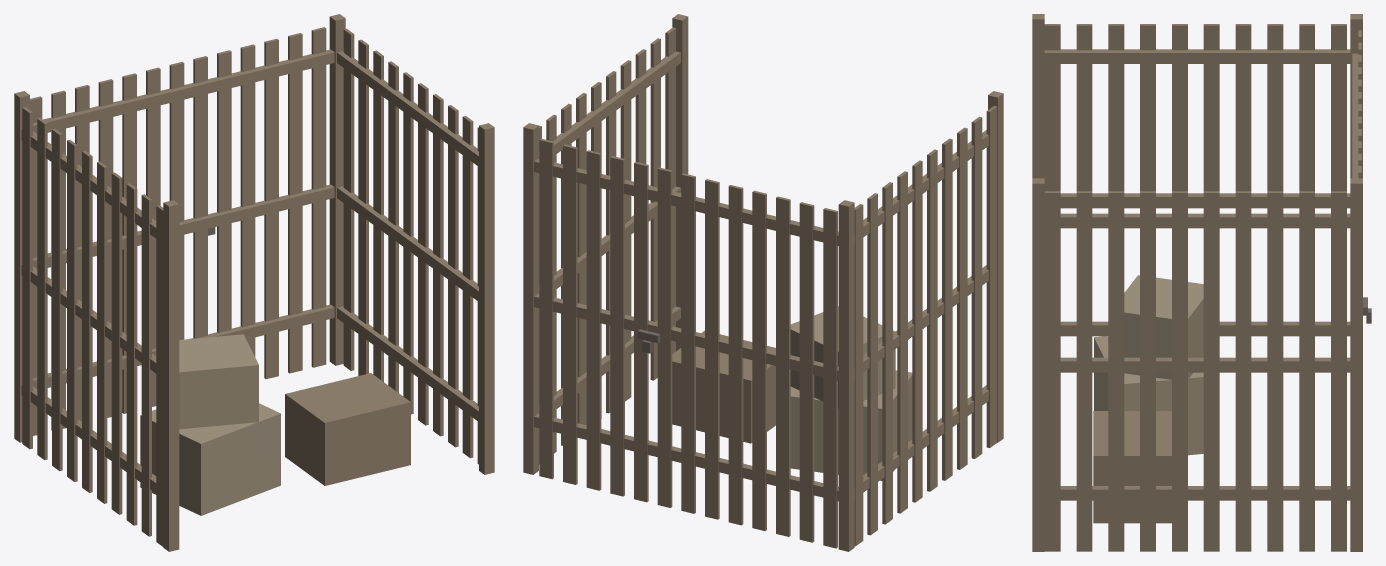
The model's file is basement_storage_cage.glb.
The picture shows the model from 3 angles, left to right: view 1: azimuth 30°, elevation 25°; view 2: azimuth 150°, elevation 25°; view 3: azimuth 270°, elevation 25°; orthographic projection. The views are drawn at different scales.
Parts seen in each view (by area): view 1: StoredCrate3, StoredBox1, StoredBox2, Post_-1.1_-0.9, Post_1.1_-0.9, FrontSlat_12, Post_1.1_0.9, FrontSlat_10, FrontSlat_11, FrontRail_2.05, FrontSlat_9, SideSlatL_3 (+37 smaller); view 2: Post_-1.1_0.9, Post_1.1_0.9, FrontSlat_1, FrontSlat_10, FrontSlat_4, FrontSlat_7, FrontSlat_6, FrontSlat_11, FrontSlat_12, FrontSlat_0, FrontSlat_2, FrontSlat_9 (+36 smaller); view 3: SideSlatR_0, SideSlatR_1, SideSlatR_2, SideSlatR_5, SideSlatR_6, SideSlatR_7, SideSlatR_3, SideSlatR_4, SideSlatR_8, SideSlatR_9, Post_1.1_0.9, Post_1.1_-0.9 (+22 smaller).
Boxes of the visible parts, x1,y1,x2,y2 form: StoredCrate3: (285, 373, 410, 485); StoredBox1: (140, 403, 280, 515); StoredBox2: (179, 334, 258, 429); Post_-1.1_-0.9: (163, 200, 179, 551); Post_1.1_-0.9: (479, 123, 494, 474); FrontSlat_12: (311, 27, 326, 367); Post_1.1_0.9: (329, 14, 345, 365); FrontSlat_10: (264, 38, 278, 379); FrontSlat_11: (288, 33, 302, 373); FrontRail_2.05: (33, 49, 334, 133); FrontSlat_9: (240, 44, 255, 356); SideSlatL_3: (111, 172, 122, 514); Post_-1.1_0.9: (838, 200, 854, 551); Post_1.1_0.9: (523, 123, 538, 474); FrontSlat_1: (799, 202, 814, 542); FrontSlat_10: (586, 150, 601, 490); FrontSlat_4: (728, 185, 743, 525); FrontSlat_7: (657, 167, 672, 507); FrontSlat_6: (681, 173, 695, 513); FrontSlat_11: (563, 144, 577, 484); FrontSlat_12: (539, 138, 553, 479); FrontSlat_0: (823, 208, 837, 548); FrontSlat_2: (776, 196, 790, 536); FrontSlat_9: (610, 156, 624, 496); SideSlatR_0: (1044, 191, 1060, 551); SideSlatR_1: (1076, 191, 1092, 551); SideSlatR_2: (1108, 191, 1124, 551); SideSlatR_5: (1203, 191, 1219, 551); SideSlatR_6: (1235, 191, 1251, 551); SideSlatR_7: (1267, 191, 1283, 551); SideSlatR_3: (1140, 191, 1155, 551); SideSlatR_4: (1172, 191, 1187, 551); SideSlatR_8: (1299, 191, 1314, 551); SideSlatR_9: (1331, 191, 1346, 551); Post_1.1_0.9: (1350, 178, 1362, 551); Post_1.1_-0.9: (1032, 178, 1044, 551).
Bounding box in the file's own units: 2.27 × 2.3 × 1.92.
